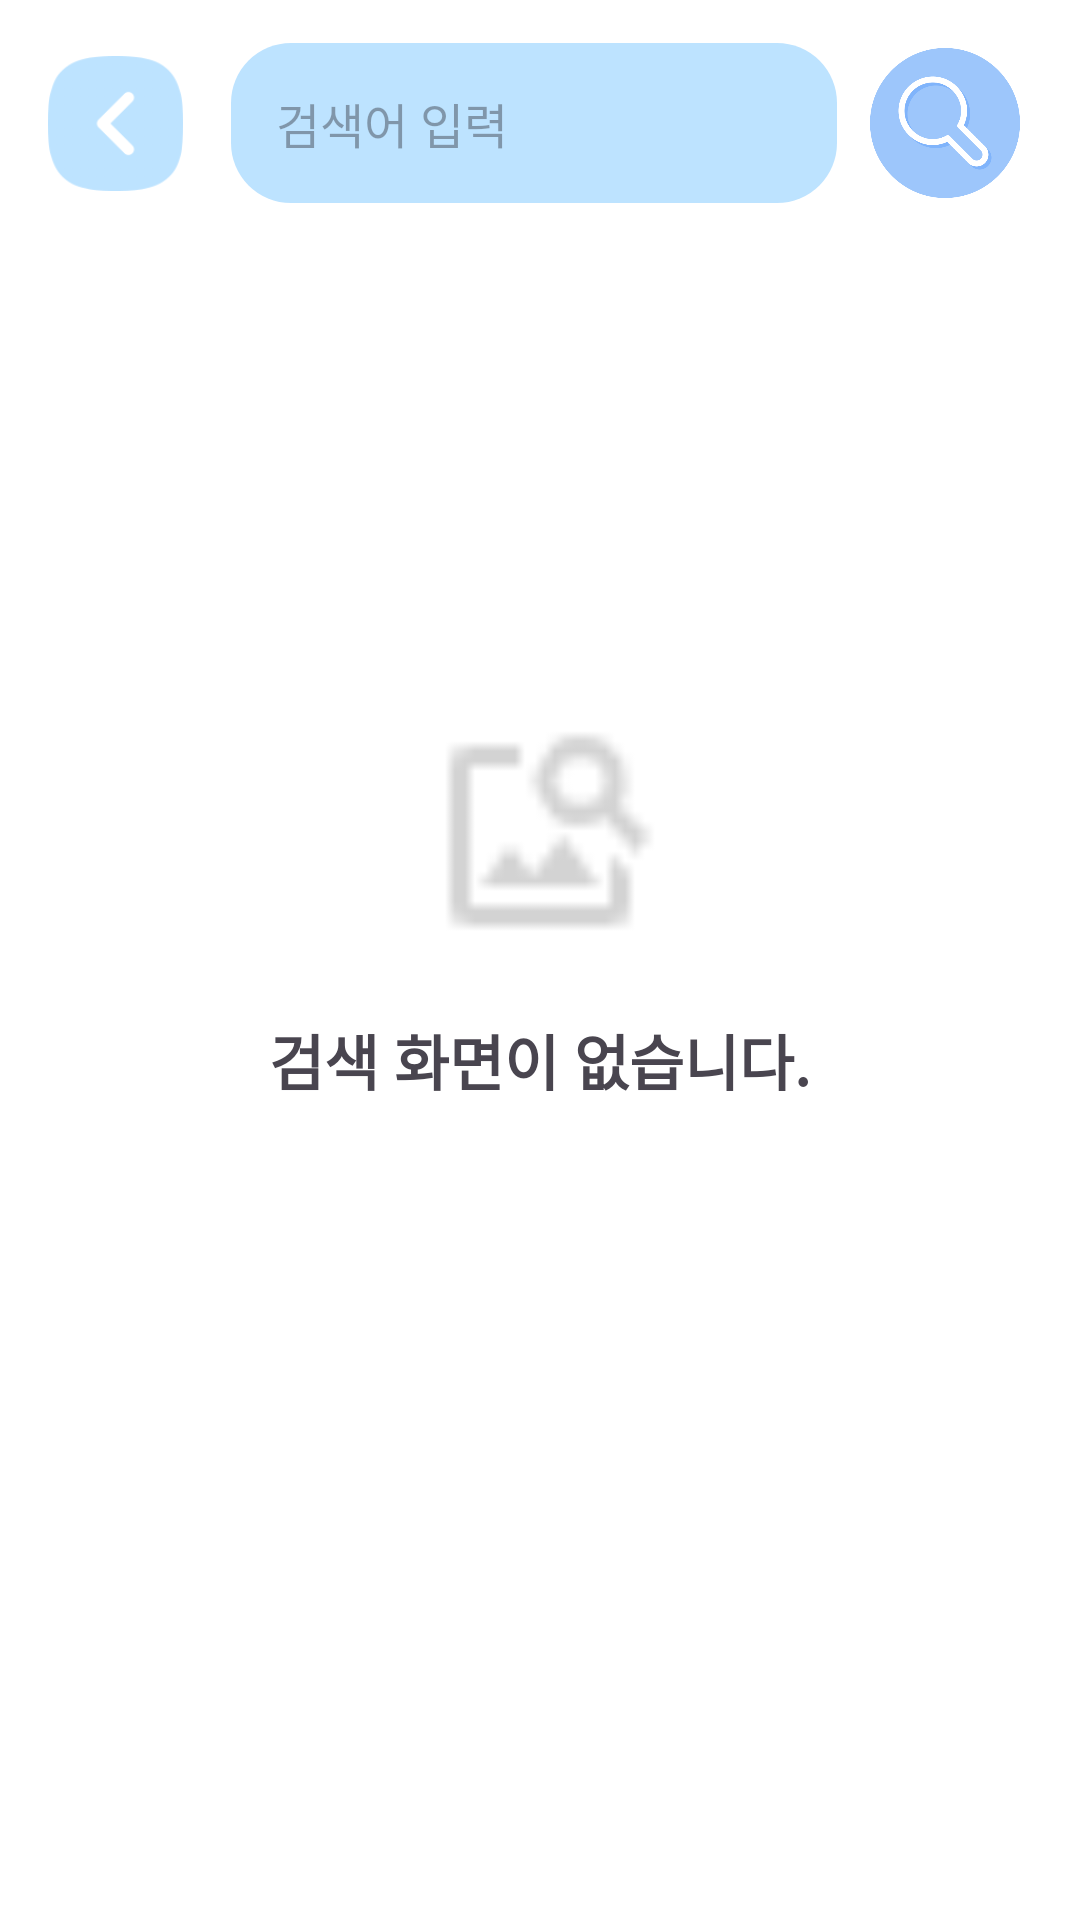

Where to tap for icons on this 1080*1920 app screen, as (x=x, y=y):
back: (x=115, y=123)
